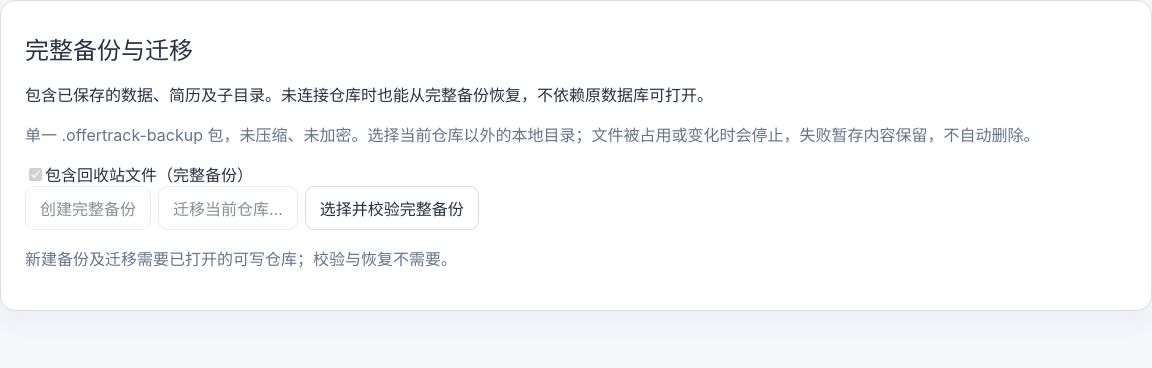
Test: full backup, independent recovery and migration › does not select a destination or restore when package verification fails
Click the button "选择并校验完整备份" at (392, 208), box [305,186,479,230]
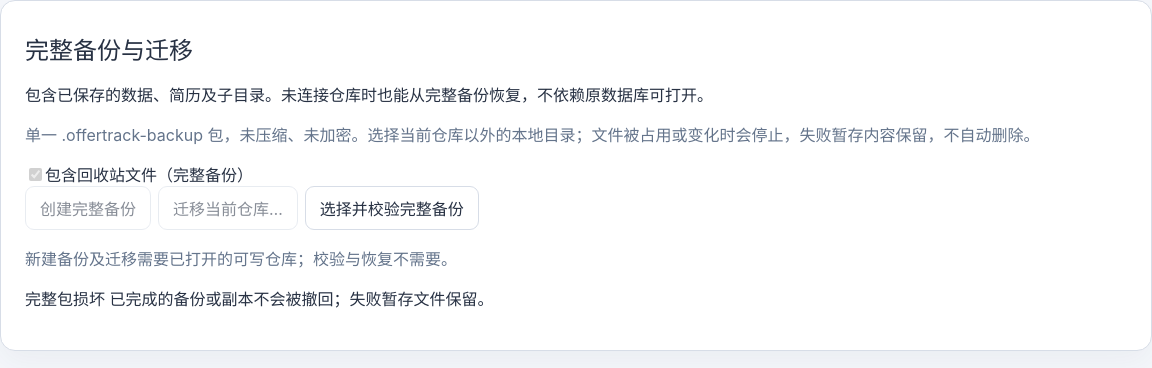
Check: the message shows "完整包损坏", box [25,289,105,309]
